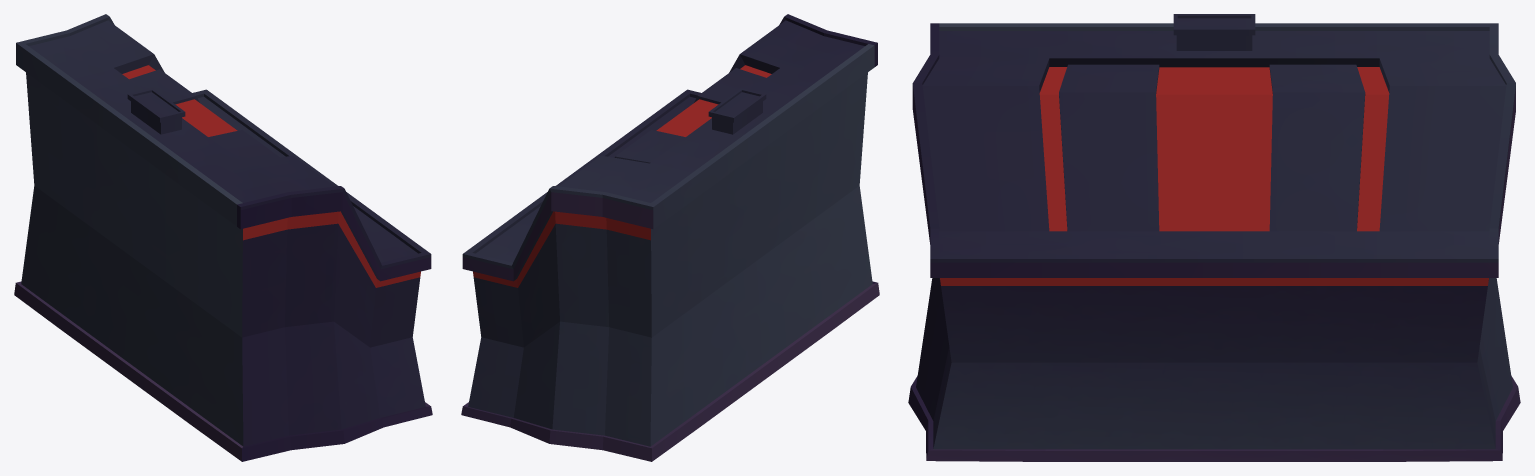
The model's file is Prop_Dumpster.fbx.
The picture shows the model from 3 angles, left to right: view 1: azimuth 30°, elevation 25°; view 2: azimuth 150°, elevation 25°; view 3: azimuth 270°, elevation 25°; orthographic projection. The views are drawn at different scales.
Parts seen in each view (by area): view 1: Dumpster; view 2: Dumpster; view 3: Dumpster.
Boxes of the visible parts, left/top/right/bottom form: Dumpster: left=14, top=14, right=432, bottom=461; Dumpster: left=461, top=14, right=879, bottom=461; Dumpster: left=908, top=14, right=1520, bottom=461.
Bounding box in the file's own units: 95.57 × 129 × 210.
